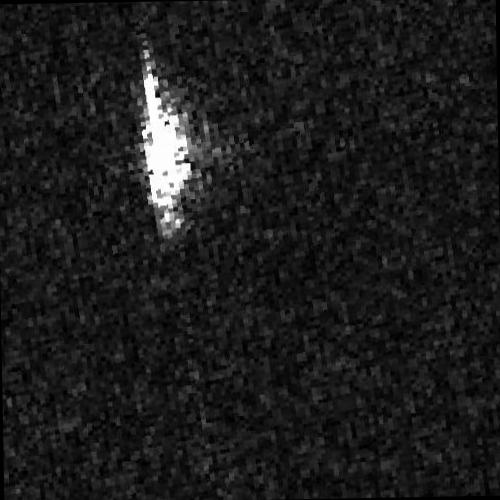ship: (141, 62, 191, 231)
